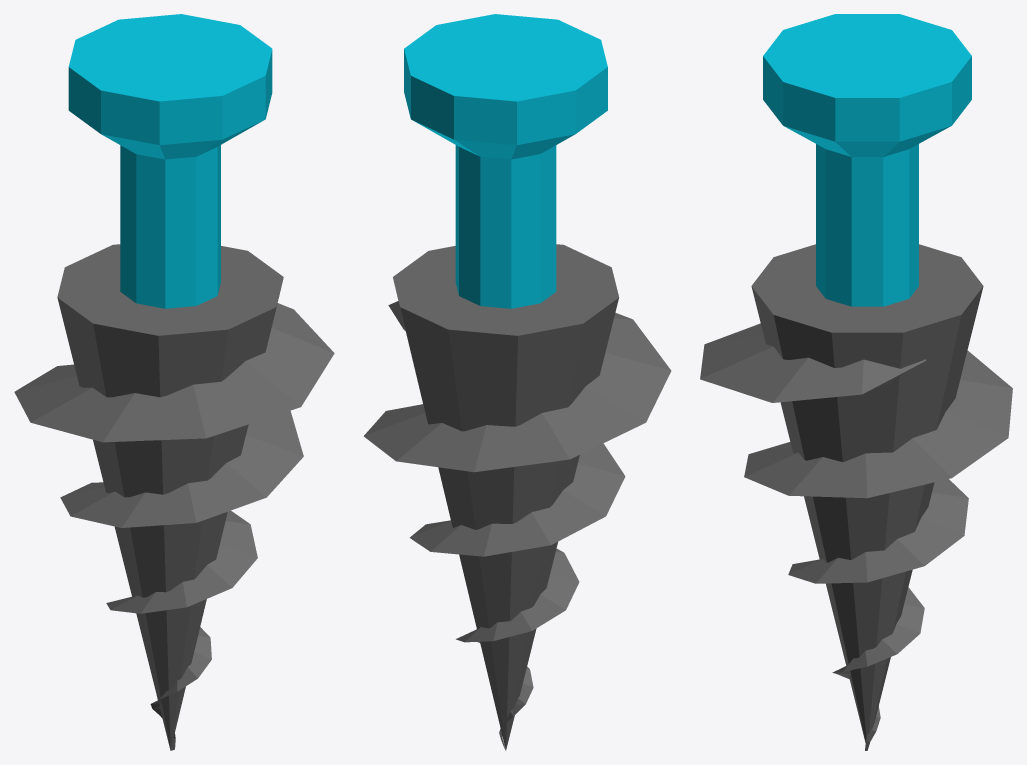
The model's file is MineDrill.fbx.
3 views of the same model, side by side, from view 1: azimuth 30°, elevation 25°; view 2: azimuth 150°, elevation 25°; view 3: azimuth 270°, elevation 25° (orthographic).
Visible parts, largest first — view 1: Cylinder.001, Cylinder, Spiral; view 2: Cylinder.001, Cylinder, Spiral; view 3: Cylinder.001, Cylinder, Spiral.
Part boxes in pixels (x1,y1,x2,y2): Cylinder.001: (57, 244, 283, 750); Cylinder: (68, 14, 272, 308); Spiral: (14, 303, 334, 750); Cylinder.001: (393, 244, 619, 749); Cylinder: (404, 14, 607, 308); Spiral: (363, 301, 671, 749); Cylinder.001: (751, 244, 983, 742); Cylinder: (763, 14, 971, 306); Spiral: (700, 323, 1012, 750).
Bounding box in the file's own units: 47.63 × 121 × 49.41.
